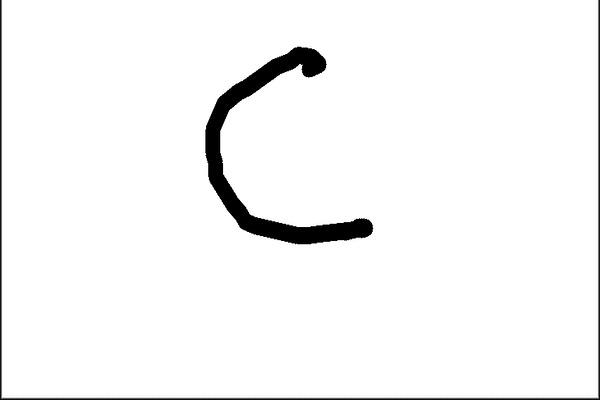C: (200, 38, 376, 246)
